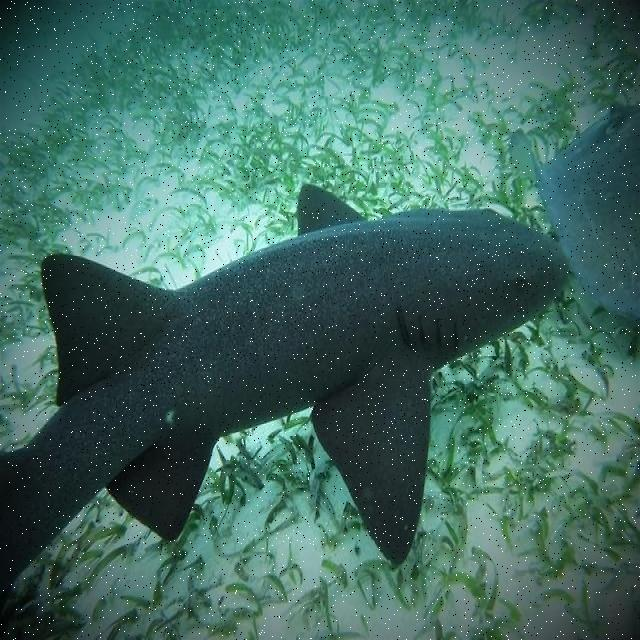fish: (2, 184, 568, 606), (509, 100, 639, 321)
